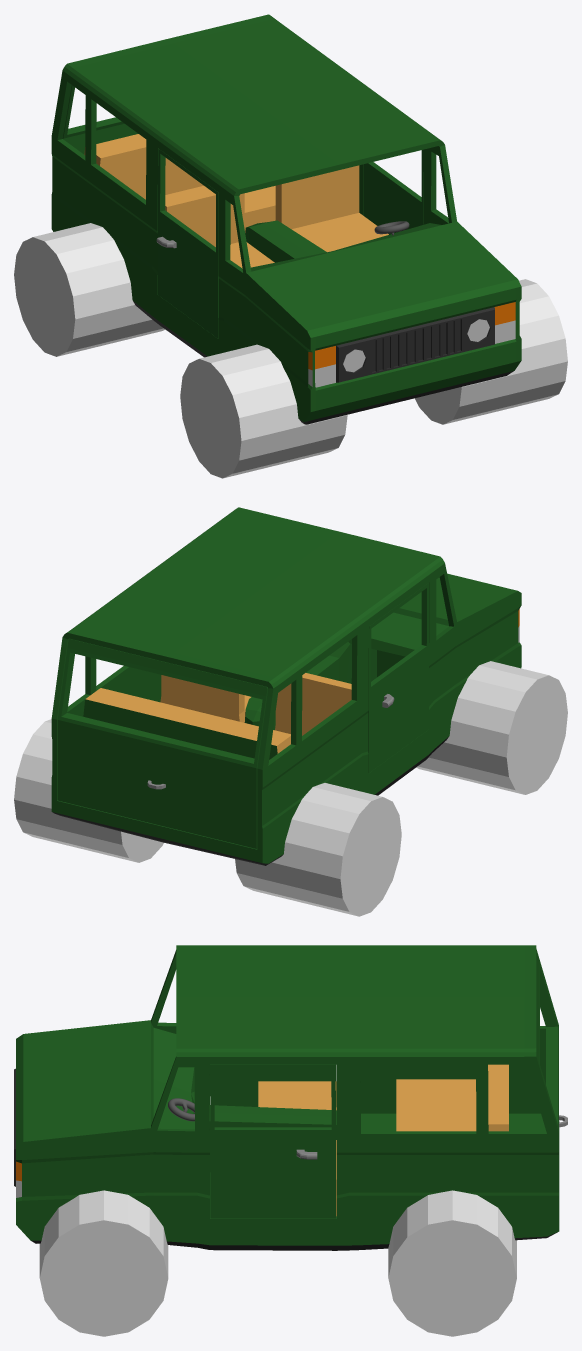
Rendered from GrayboxCar2.fbx.
The picture shows the model from 3 angles, top to bottom: view 1: azimuth 30°, elevation 25°; view 2: azimuth 150°, elevation 25°; view 3: azimuth 270°, elevation 25°; orthographic projection. The views are drawn at different scales.
Parts seen in each view (by area): view 1: Car, DoorGapRight, DoorGapLeft, DoorRight, DoorLeft, Trunk; view 2: Car, DoorGapRight, Trunk, DoorGapLeft, DoorRight; view 3: Car, DoorGapLeft, DoorLeft, DoorRight, Trunk.
Boxes of the visible parts, x1,y1,x2,y2 form: Car: (51, 14, 521, 424); DoorGapRight: (14, 223, 347, 478); DoorGapLeft: (415, 279, 567, 424); DoorRight: (156, 148, 218, 338); DoorLeft: (363, 149, 423, 234); Trunk: (62, 85, 138, 154); Car: (51, 507, 521, 865); DoorGapRight: (235, 661, 567, 916); Trunk: (57, 638, 267, 848); DoorGapLeft: (14, 719, 163, 862); DoorRight: (368, 583, 428, 772); Car: (14, 945, 559, 1250); DoorGapLeft: (39, 1190, 516, 1336); DoorLeft: (210, 1064, 335, 1218); DoorRight: (214, 1065, 335, 1106); Trunk: (536, 953, 567, 1129).
Size of the model in its own units: 326 by 234 by 457.
